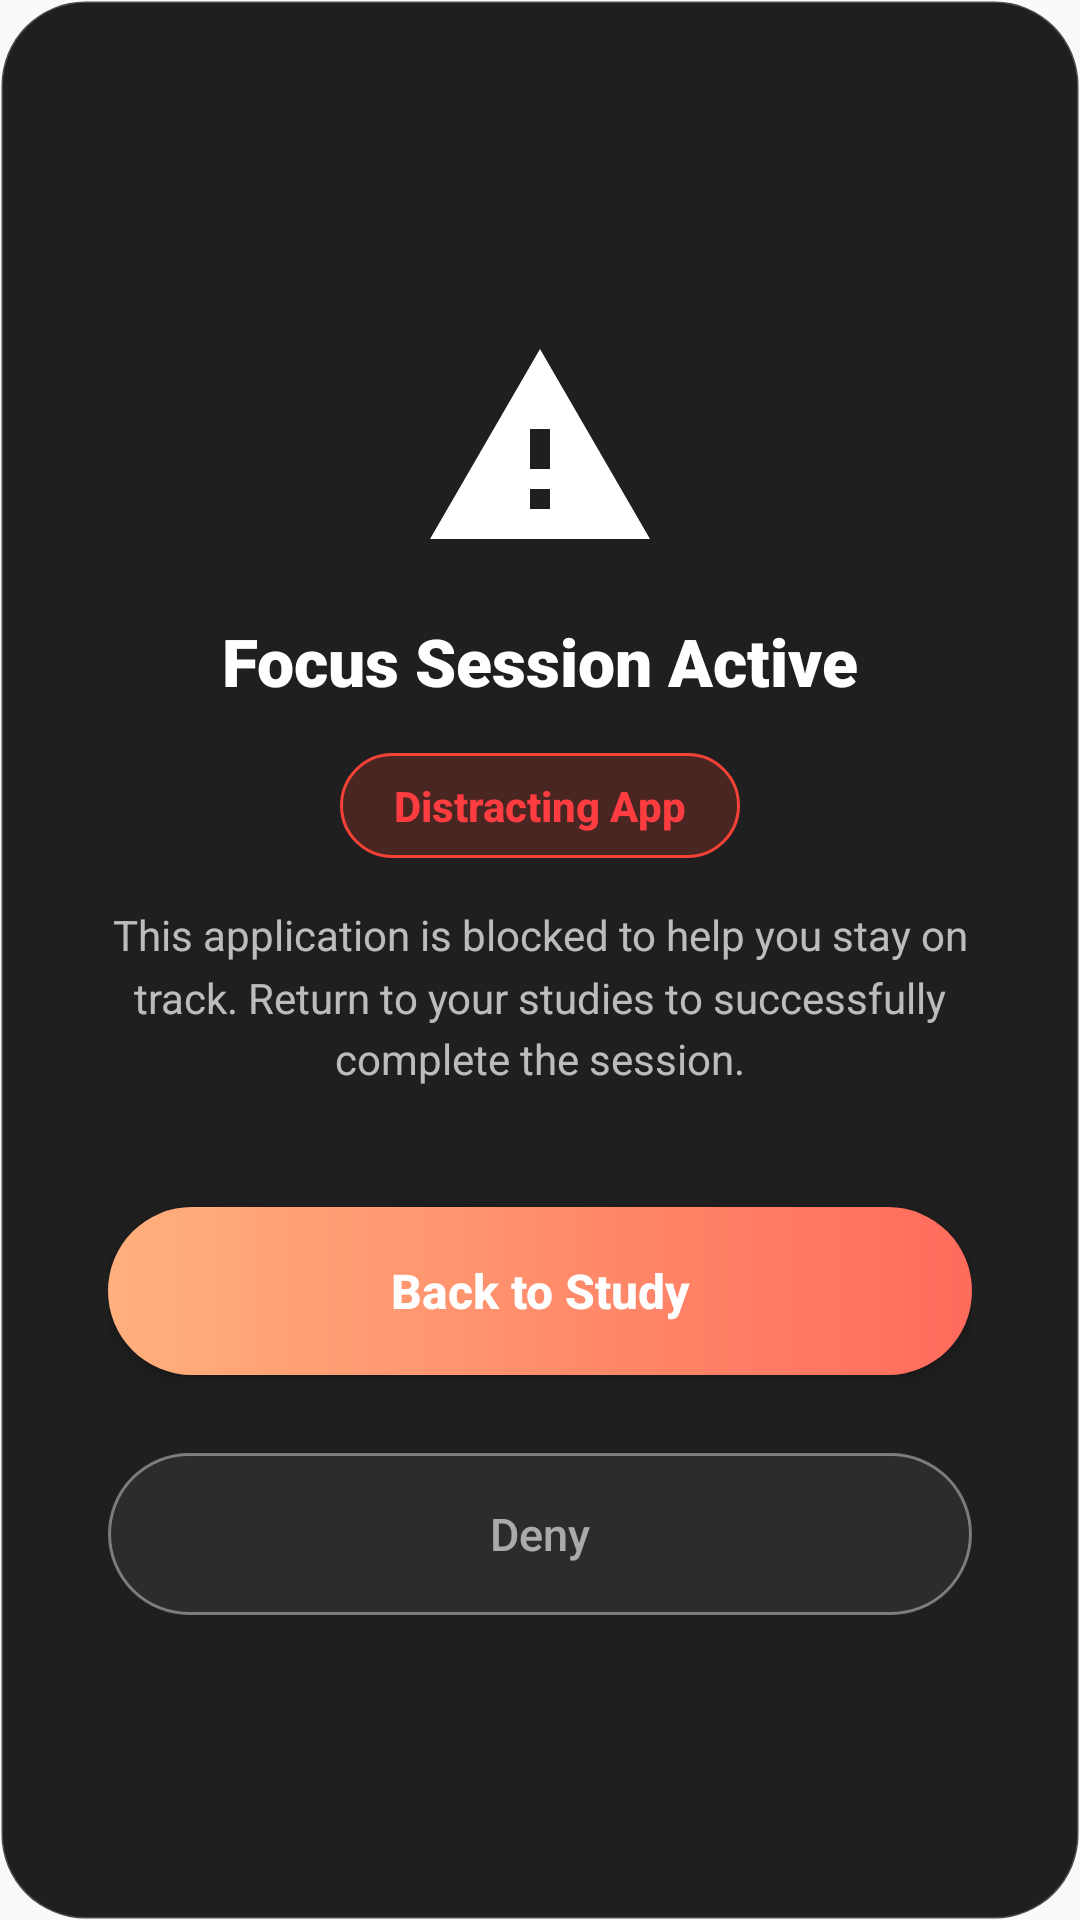

Icon bounding boxes for this 1080x1920 phone screenshot, format bbox(x1, y1, x2, y2):
Distraction warning icon: bbox(430, 349, 650, 539)
